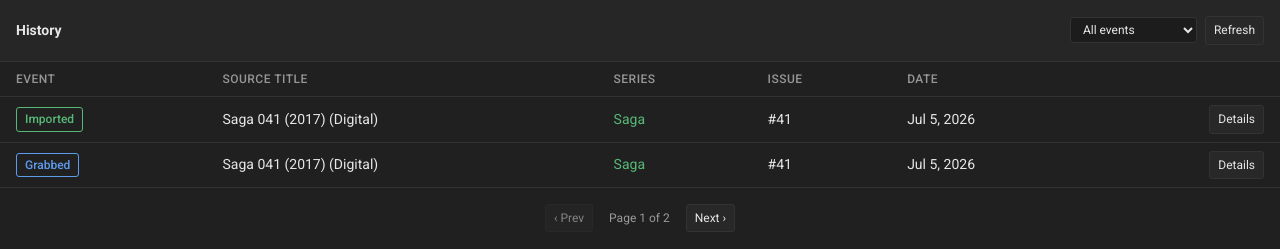
Test: FRG-UI-010: history screen › FRG-UI-010 — pagination is real: page controls fetch page 2 under its own key
Expected: the row with test id "history-row-2" is shown, [0,97,1279,142]
Expected: the text with test id "page-controls-label" reads "Page 1 of 2", [609,209,670,228]
Click the button "Next ›": (710, 218) [686,204,735,232]
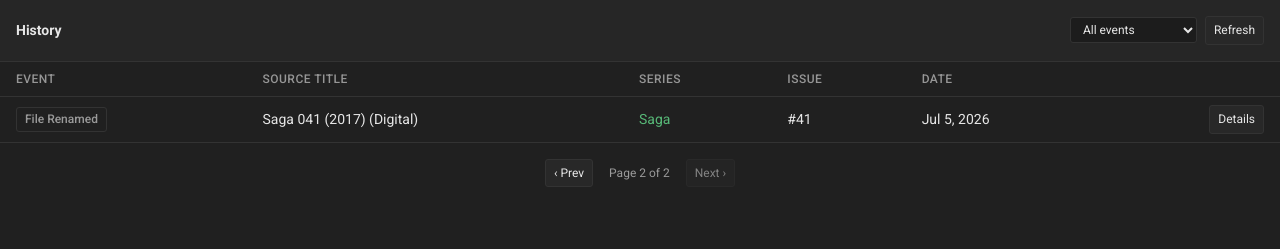
Expected: the row with test id "history-row-99" is shown, [0,97,1279,142]
Expected: the text with test id "page-controls-label" reads "Page 2 of 2", [609,164,670,182]
Expected: the row with test id "history-row-2" is gone
